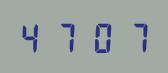four: (18, 20, 50, 53)
seven: (51, 20, 83, 53), (117, 20, 149, 53)
zero: (84, 20, 116, 53)
